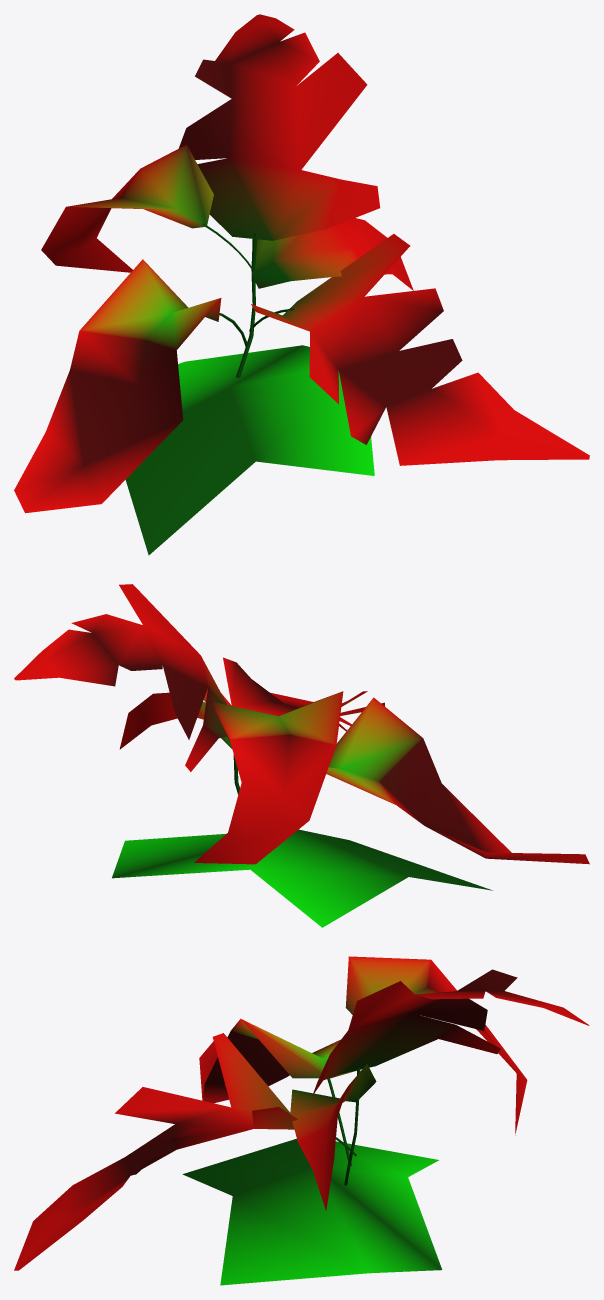
File: Bracken Fern_LOD0_Var1_seEoW.fbx
The picture shows the model from 3 angles, top to bottom: view 1: azimuth 30°, elevation 25°; view 2: azimuth 150°, elevation 25°; view 3: azimuth 270°, elevation 25°; orthographic projection. The views are drawn at different scales.
Visible parts, largest first — view 1: _k9ch_Var1_LOD0; view 2: _k9ch_Var1_LOD0; view 3: _k9ch_Var1_LOD0.
Part boxes in pixels (left/top/right/bottom): _k9ch_Var1_LOD0: left=14, top=14, right=589, bottom=555; _k9ch_Var1_LOD0: left=14, top=584, right=589, bottom=927; _k9ch_Var1_LOD0: left=14, top=956, right=589, bottom=1285.
Size of the model in its own units: 140 by 97.71 by 152.
